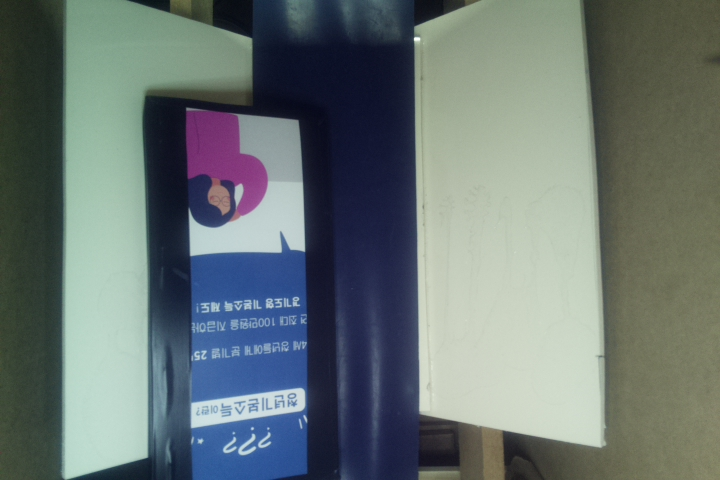book: (146, 97, 340, 480)
